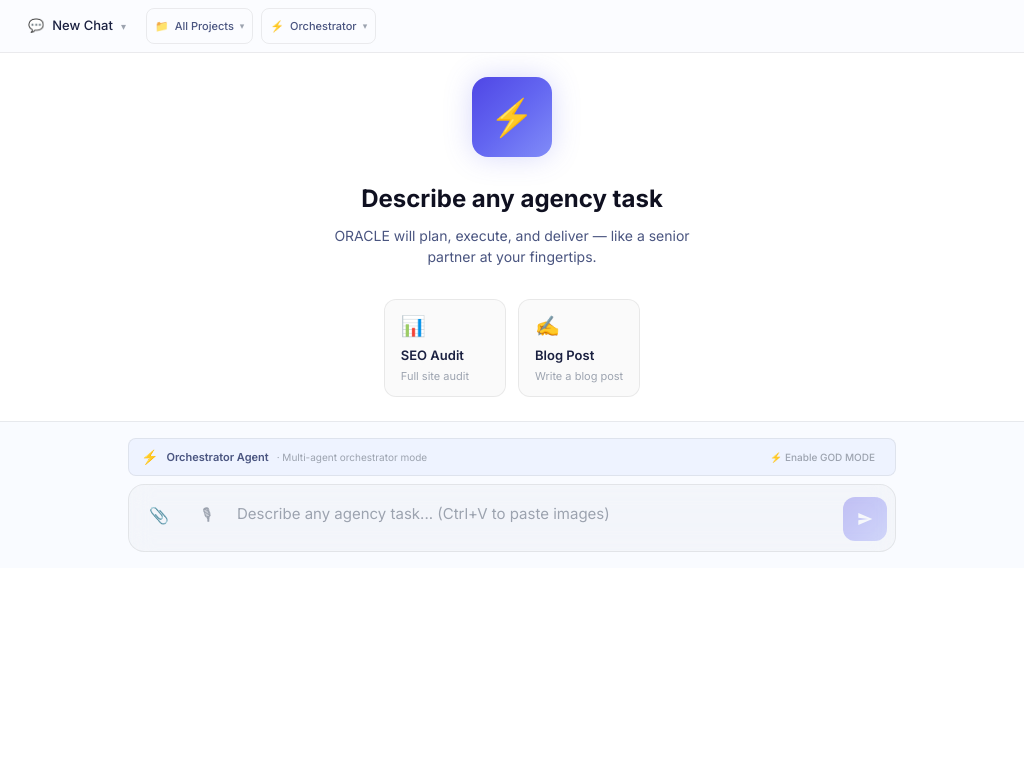
Test: GOD MODE Toggle › toggle button rendering › renders GOD MODE ON button when toggled on
The image size is (1024, 768).
Click the button "⚡ Enable GOD MODE" at (822, 457), box [762,448,883,466]
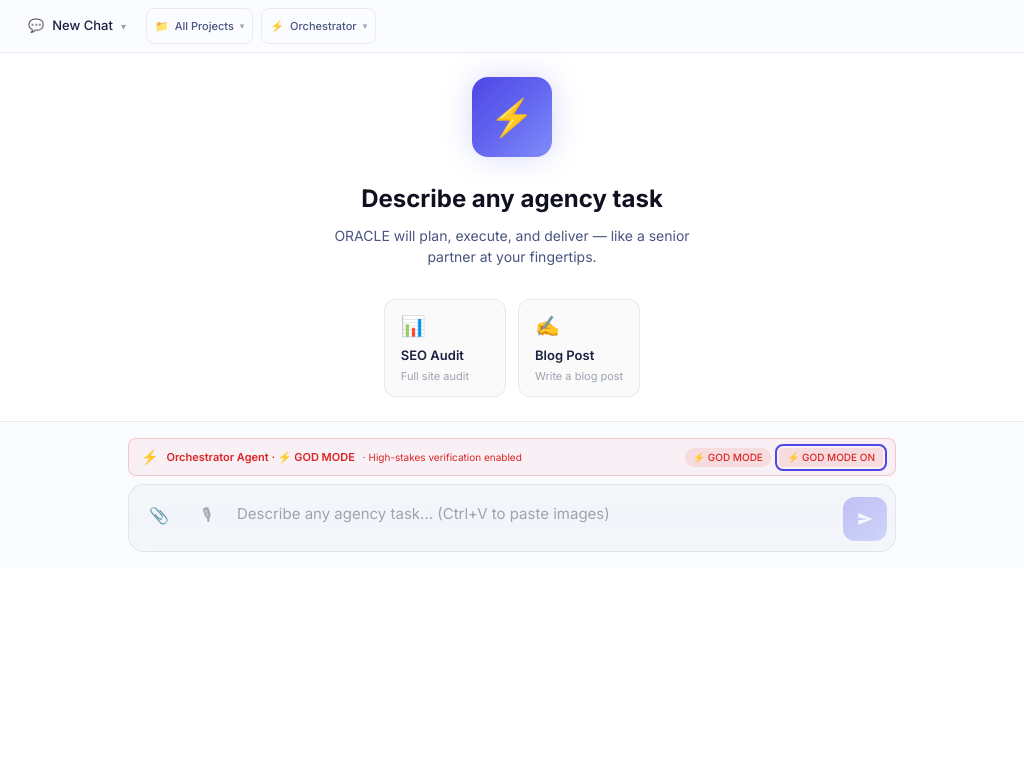
Expected: the button "⚡ GOD MODE ON" is shown, [779,448,883,466]
